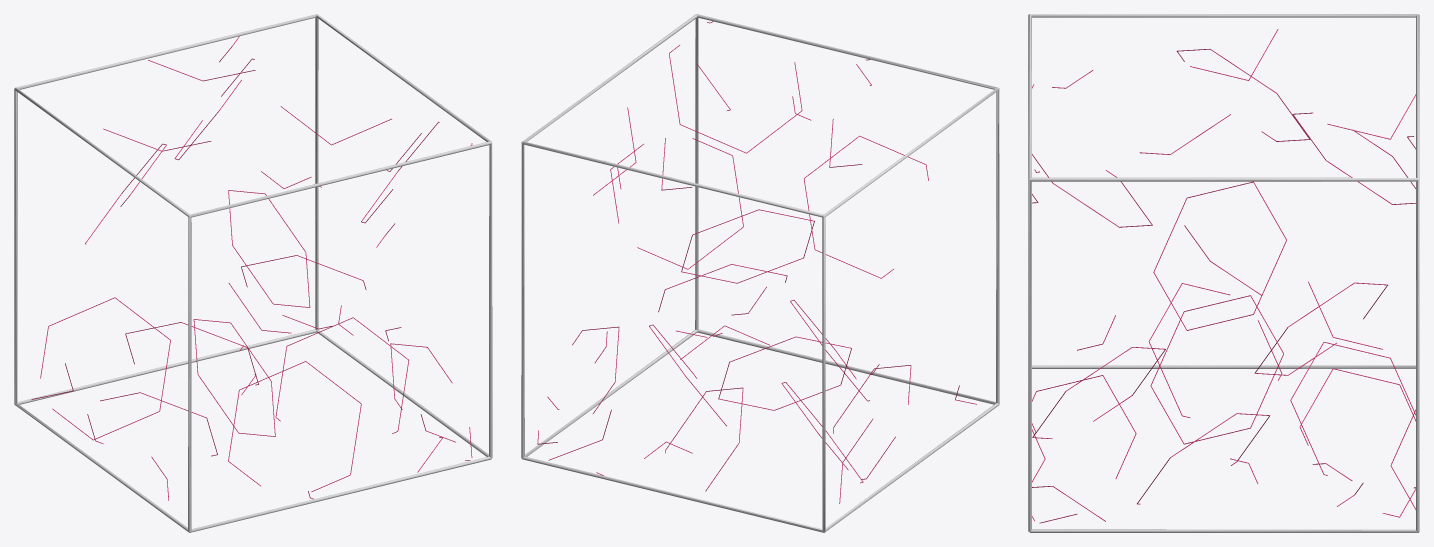
File: ddd000.glb
The picture shows the model from 3 angles, left to right: view 1: azimuth 30°, elevation 25°; view 2: azimuth 150°, elevation 25°; view 3: azimuth 270°, elevation 25°; orthographic projection. The views are drawn at different scales.
Visible parts, largest first — view 1: Shape_IndexedLineSet.002, Shape_IndexedLineSet.003; view 2: Shape_IndexedLineSet.002, Shape_IndexedLineSet.003; view 3: Shape_IndexedLineSet.002, Shape_IndexedLineSet.003.
Part boxes in pixels (bbox=[...]): Shape_IndexedLineSet.002: bbox=[14, 14, 492, 532]; Shape_IndexedLineSet.003: bbox=[31, 36, 472, 500]; Shape_IndexedLineSet.002: bbox=[521, 14, 999, 532]; Shape_IndexedLineSet.003: bbox=[537, 21, 976, 503]; Shape_IndexedLineSet.002: bbox=[1028, 14, 1419, 532]; Shape_IndexedLineSet.003: bbox=[1032, 29, 1415, 523].
Size of the model in its own units: 10.1 by 10.1 by 10.1.
